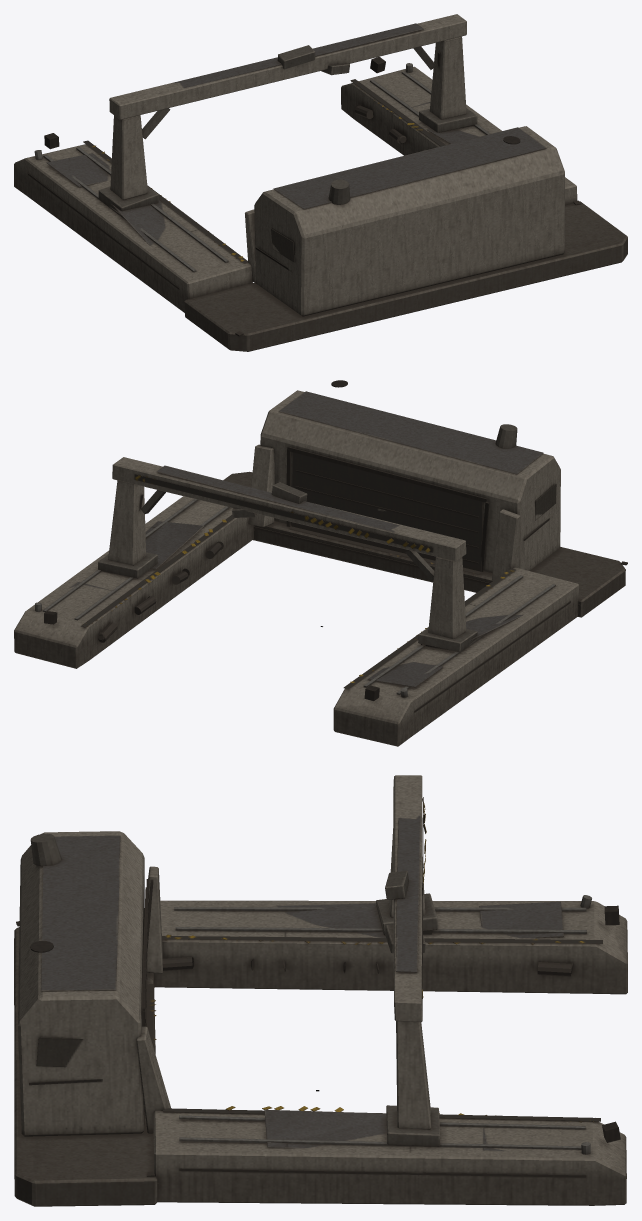
File: ord_shipyard_wreck.fbx
The picture shows the model from 3 angles, top to bottom: view 1: azimuth 30°, elevation 25°; view 2: azimuth 150°, elevation 25°; view 3: azimuth 270°, elevation 25°; orthographic projection. The views are drawn at different scales.
Parts seen in each view (by area): view 1: base_bar; view 2: base_bar; view 3: base_bar.
Part boxes in pixels (x1=…): base_bar: x1=14, y1=14, x2=627, y2=351; base_bar: x1=14, y1=380, x2=627, y2=746; base_bar: x1=14, y1=775, x2=627, y2=1206.
Bounding box in the file's own units: 3957 × 1533 × 3935.
2 materials, 2 textured.
